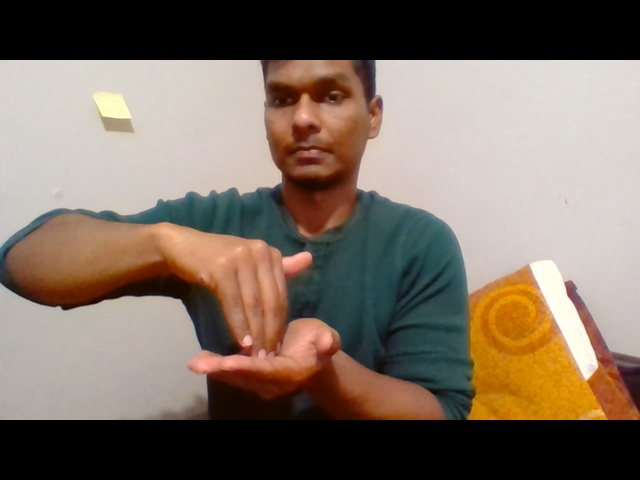ExcuseMe: (153, 220, 345, 403)
